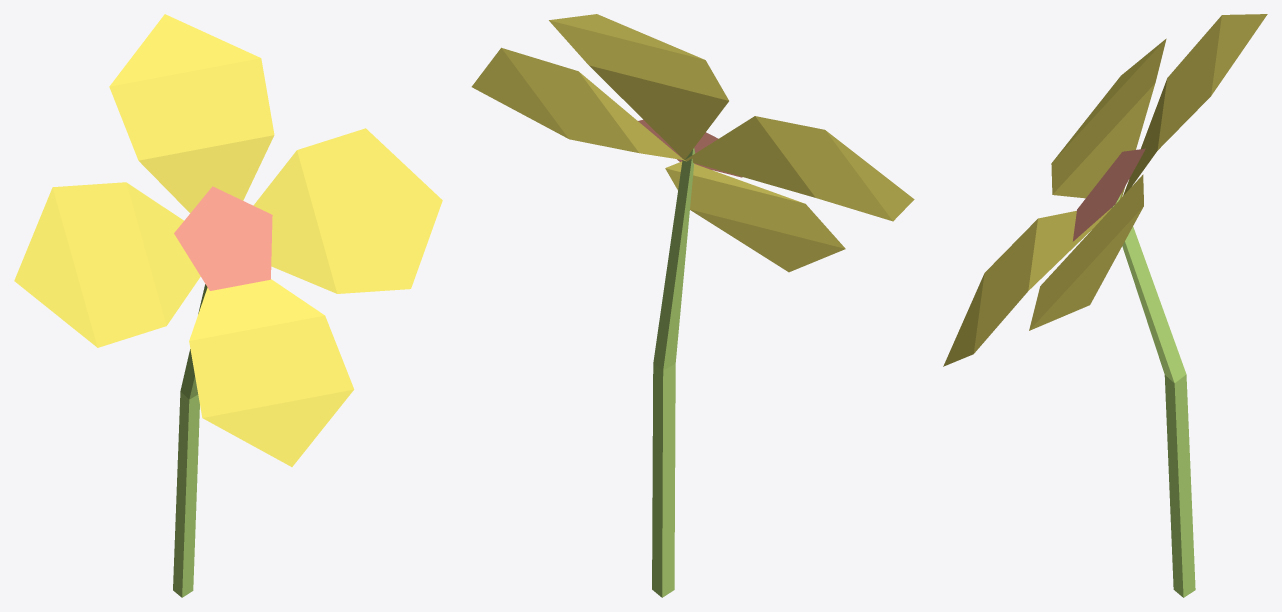
The model's file is Flower_d_OneS_04.fbx.
The picture shows the model from 3 angles, left to right: view 1: azimuth 30°, elevation 25°; view 2: azimuth 150°, elevation 25°; view 3: azimuth 270°, elevation 25°; orthographic projection. The views are drawn at different scales.
Visible parts, largest first — view 1: Flower_d_OneS_04; view 2: Flower_d_OneS_04; view 3: Flower_d_OneS_04.
Part boxes in pixels (x1,y1,x2,y2): Flower_d_OneS_04: [14, 14, 442, 597]; Flower_d_OneS_04: [471, 14, 914, 597]; Flower_d_OneS_04: [943, 14, 1267, 597].
Size of the model in its own units: 25.63 by 32.24 by 16.1.
